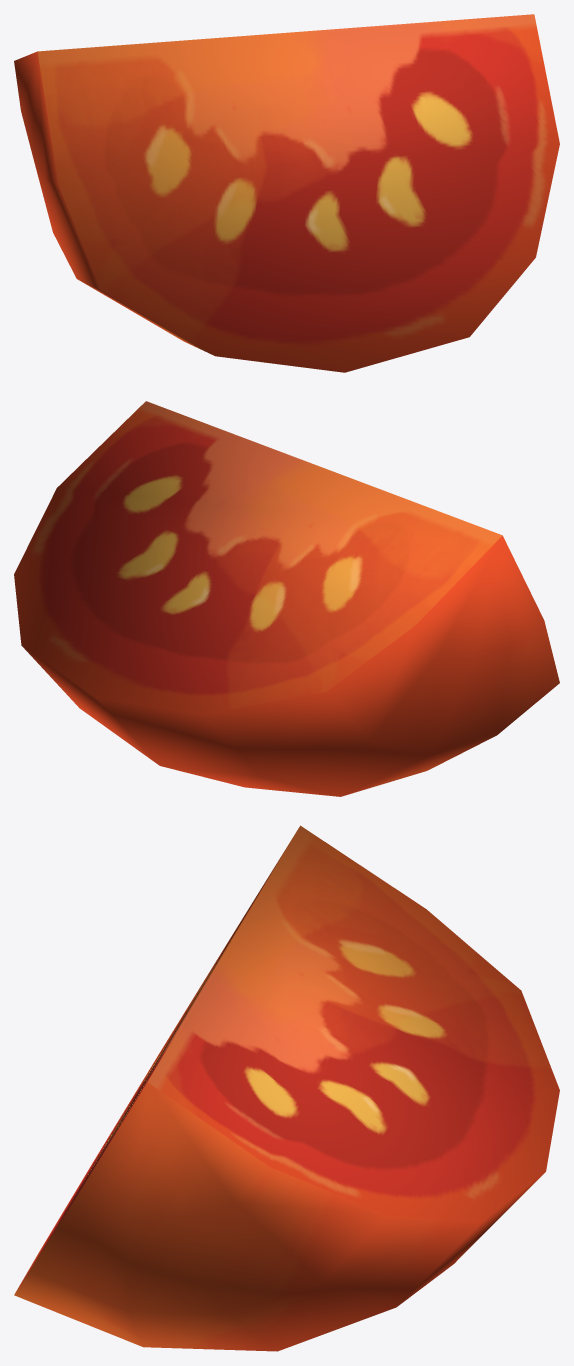
3 renders of one model, top to bottom at view 1: azimuth 30°, elevation 25°; view 2: azimuth 150°, elevation 25°; view 3: azimuth 270°, elevation 25°, orthographic. The views are drawn at different scales.
Parts seen in each view (by area): view 1: tomato-half; view 2: tomato-half; view 3: tomato-half.
Boxes of the visible parts, x1,y1,x2,y2 form: tomato-half: (14, 14, 559, 372); tomato-half: (14, 401, 559, 796); tomato-half: (14, 825, 559, 1351).
Size of the model in its own units: 0.8928 by 0.5727 by 0.7854.
1 material, 1 textured.
